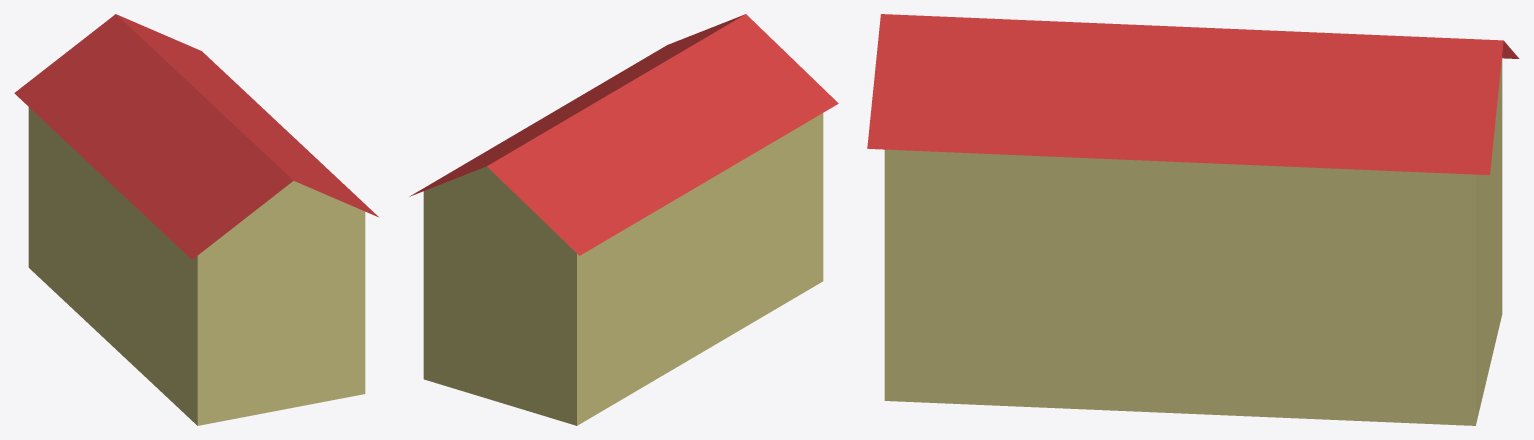
3 views of the same model, side by side, from view 1: azimuth 30°, elevation 25°; view 2: azimuth 150°, elevation 25°; view 3: azimuth 270°, elevation 25° (orthographic). The views are drawn at different scales.
Bounding box in the file's own units: 16.92 × 30.78 × 17.47.
